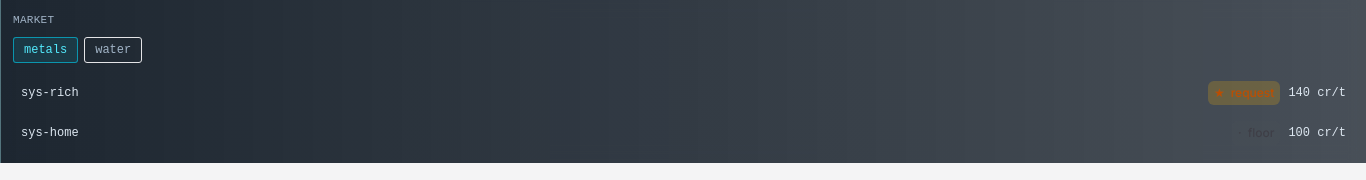
MarketBoardPanel › keeps prices and selection usable when the current system has no market venue
Expected: the text with test id "market-price-sys-rich" reads "140 cr/t", [1288, 85, 1346, 101]
Click the button with test id "market-row-sys-rich" at (50, 93), box [13, 75, 1354, 111]
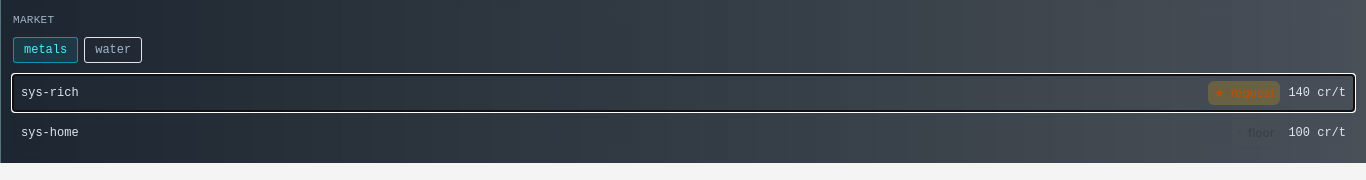
Click the button with test id "market-kind-water" at (113, 50), box [84, 37, 142, 63]
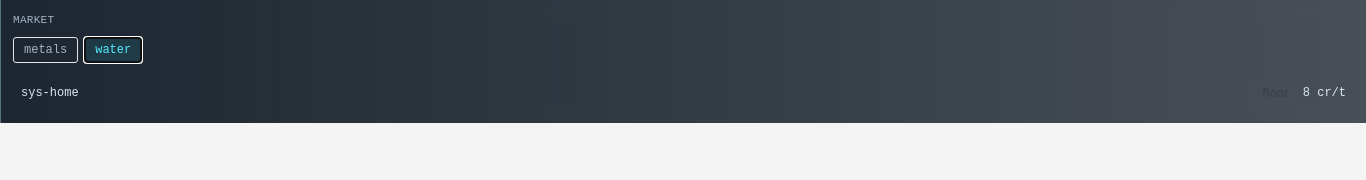
Now the text with test id "market-price-sys-home" reads "8 cr/t", box [1303, 85, 1346, 101]
